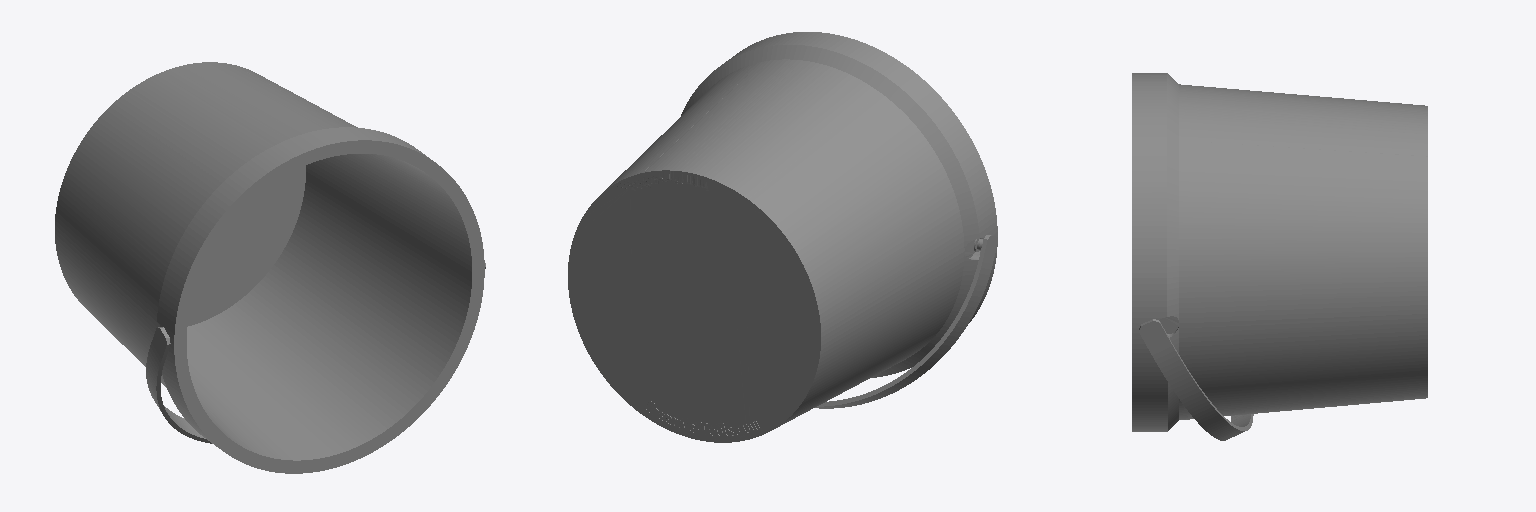
The model's file is bucket.obj.
3 views of the same model, side by side, from view 1: azimuth 30°, elevation 25°; view 2: azimuth 150°, elevation 25°; view 3: azimuth 270°, elevation 25° (orthographic).
Visible parts, largest first — view 1: 3D_printable_sand_play_set_Bucket_By_CT3D_xyz_; view 2: 3D_printable_sand_play_set_Bucket_By_CT3D_xyz_; view 3: 3D_printable_sand_play_set_Bucket_By_CT3D_xyz_.
Part boxes in pixels (x1,y1,x2,y2): 3D_printable_sand_play_set_Bucket_By_CT3D_xyz_: (55,62,485,473); 3D_printable_sand_play_set_Bucket_By_CT3D_xyz_: (568,32,997,442); 3D_printable_sand_play_set_Bucket_By_CT3D_xyz_: (1132,73,1427,440).
Bounding box in the file's own units: 47.71 × 47.38 × 38.42.